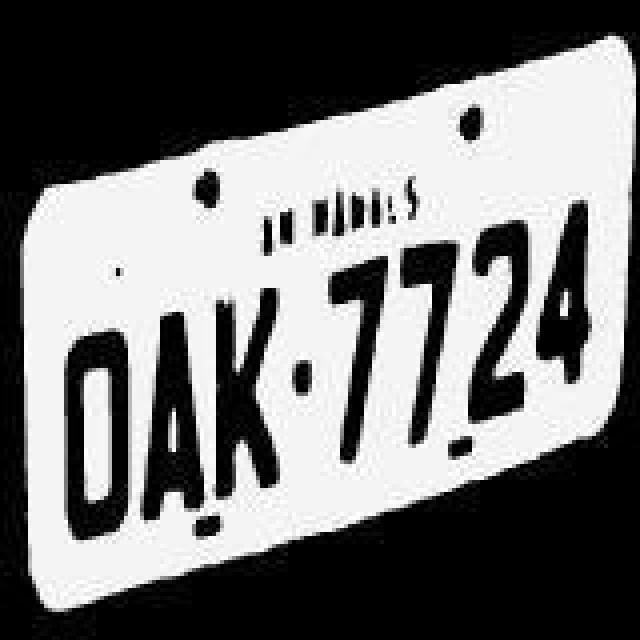2: (456, 214, 536, 434)
4: (532, 186, 612, 390)
7: (326, 242, 394, 502), (394, 234, 470, 454)
A: (140, 296, 212, 528)
K: (212, 276, 284, 508)
O: (60, 308, 132, 564)
